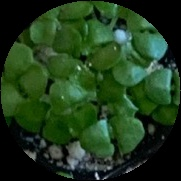Basil: (79, 115, 143, 158), (98, 53, 144, 103), (0, 47, 50, 92), (0, 85, 43, 135), (45, 105, 96, 141), (53, 27, 87, 79), (51, 70, 96, 109), (85, 22, 117, 72), (132, 17, 165, 61), (29, 6, 64, 43), (59, 0, 114, 20), (148, 67, 181, 100)
